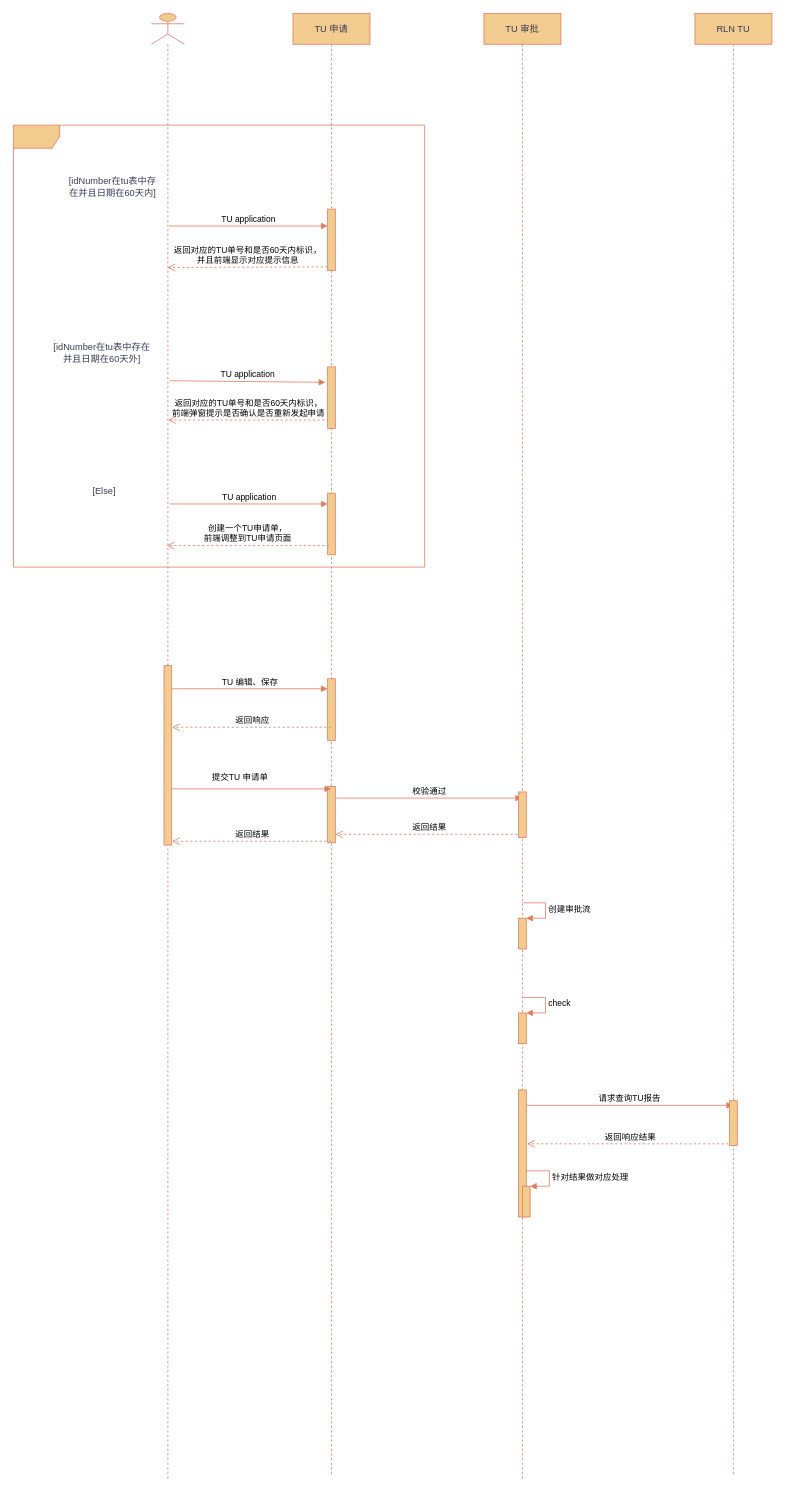
The diagram is 785 pixels wide and 1494 high, and some of its shapes have lost their labels. Each missing label, with the box of its shape:
alt: (13, 124, 425, 567)
RM: (151, 13, 184, 1480)
